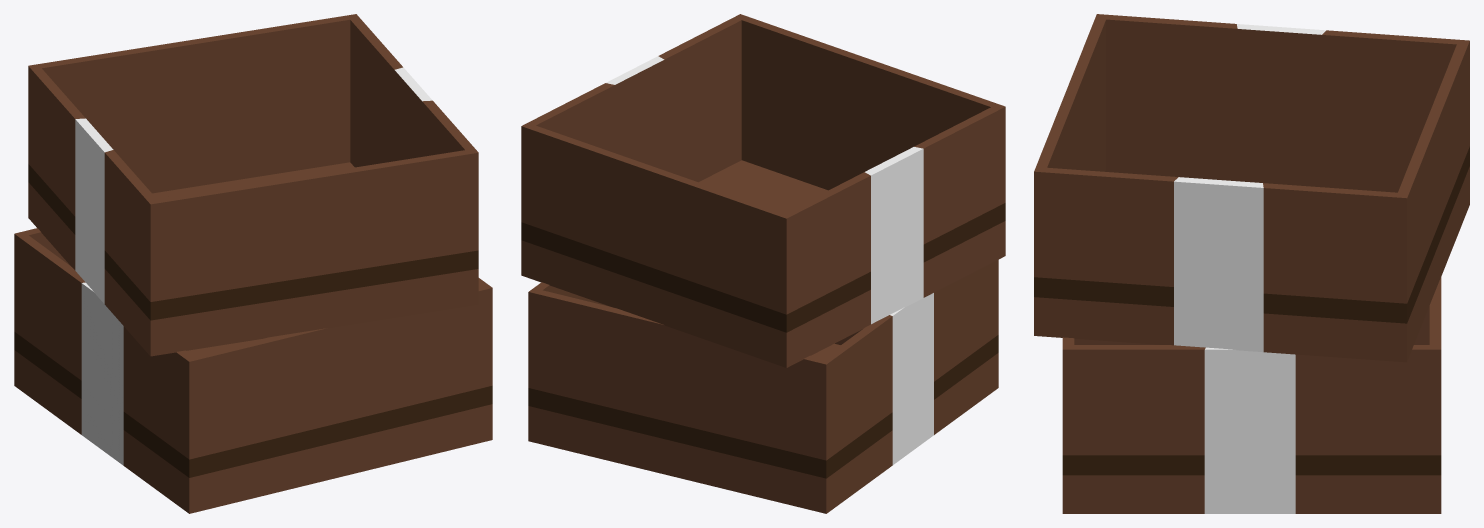
Rendered from destructible-cartoonbox5.obj.
3 views of the same model, side by side, from view 1: azimuth 30°, elevation 25°; view 2: azimuth 150°, elevation 25°; view 3: azimuth 270°, elevation 25° (orthographic). The views are drawn at different scales.
Visible parts, largest first — view 1: Cube.004, Cube.003; view 2: Cube.004, Cube.003; view 3: Cube.004, Cube.003.
Boxes of the visible parts, x1,y1,x2,y2 form: Cube.004: (28,14,478,356); Cube.003: (14,228,492,513); Cube.004: (521,14,1005,367); Cube.003: (528,260,998,513); Cube.004: (1034,14,1469,362); Cube.003: (1062,277,1441,513).
Size of the model in its own units: 2.3 by 1.91 by 2.3.
